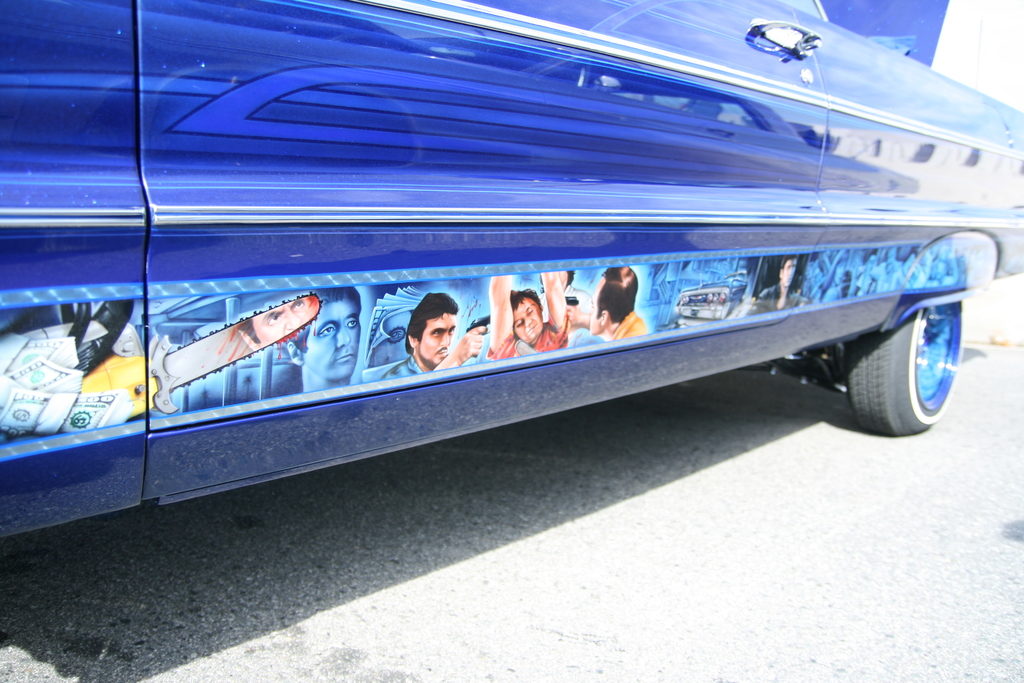Car: (22, 0, 1008, 555), (81, 355, 157, 419), (673, 268, 748, 315)
